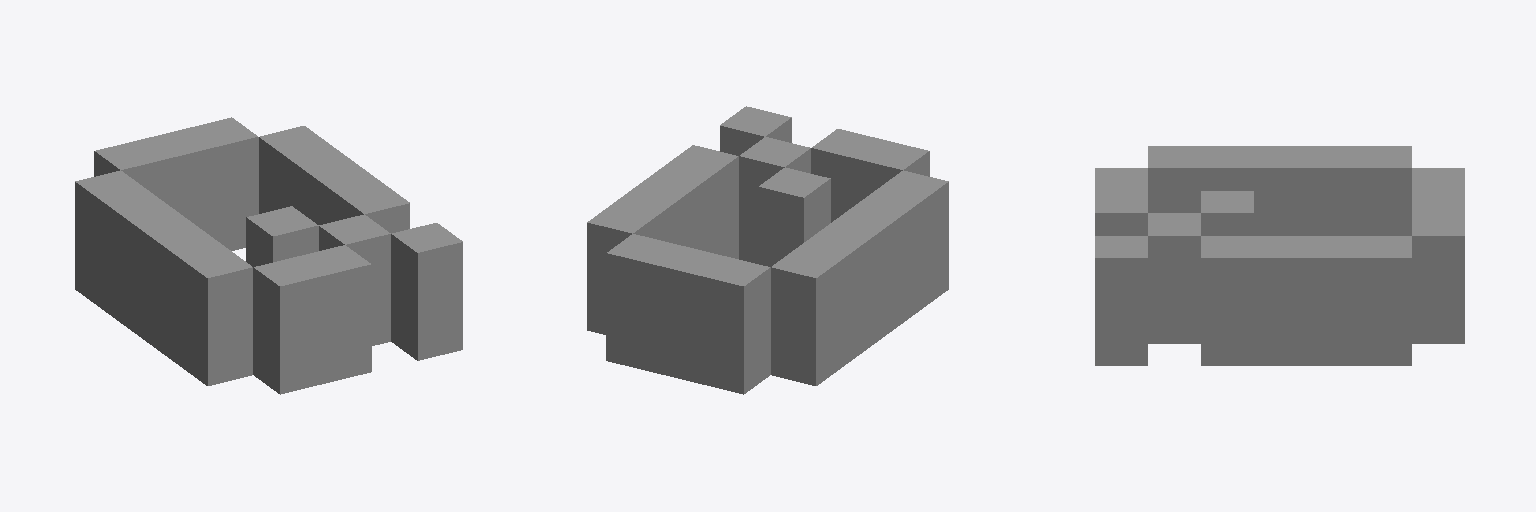
3 views of the same model, side by side, from view 1: azimuth 30°, elevation 25°; view 2: azimuth 150°, elevation 25°; view 3: azimuth 270°, elevation 25° (orthographic).
Parts seen in each view (by area): view 1: Q_CUABC.017; view 2: Q_CUABC.017; view 3: Q_CUABC.017.
Part boxes in pixels (x1,y1,x2,y2): Q_CUABC.017: (75,117,462,394); Q_CUABC.017: (587,106,948,394); Q_CUABC.017: (1095,146,1464,365).
Size of the model in its own units: 0.5556 by 0.25 by 0.7778.